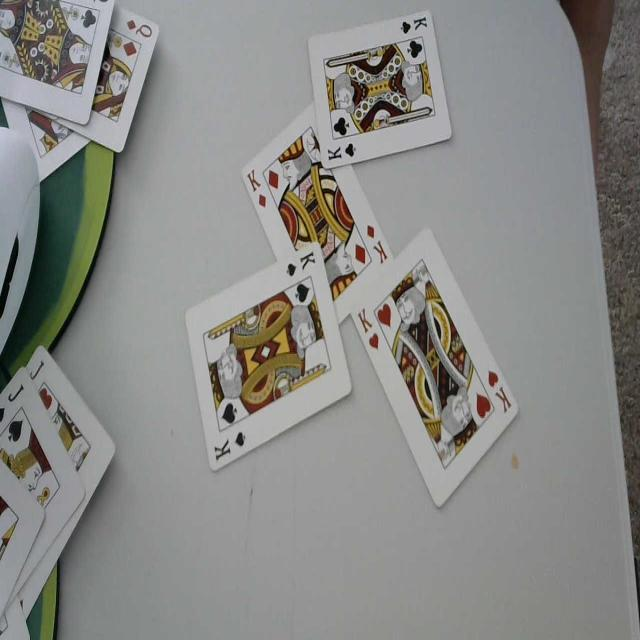KC: (327, 140, 358, 167), (398, 13, 430, 37)
KD: (365, 222, 390, 270), (246, 164, 270, 210)
KH: (486, 366, 512, 417), (356, 302, 382, 352)
KS: (286, 246, 318, 284), (212, 429, 245, 465)
QD: (125, 18, 154, 41)
